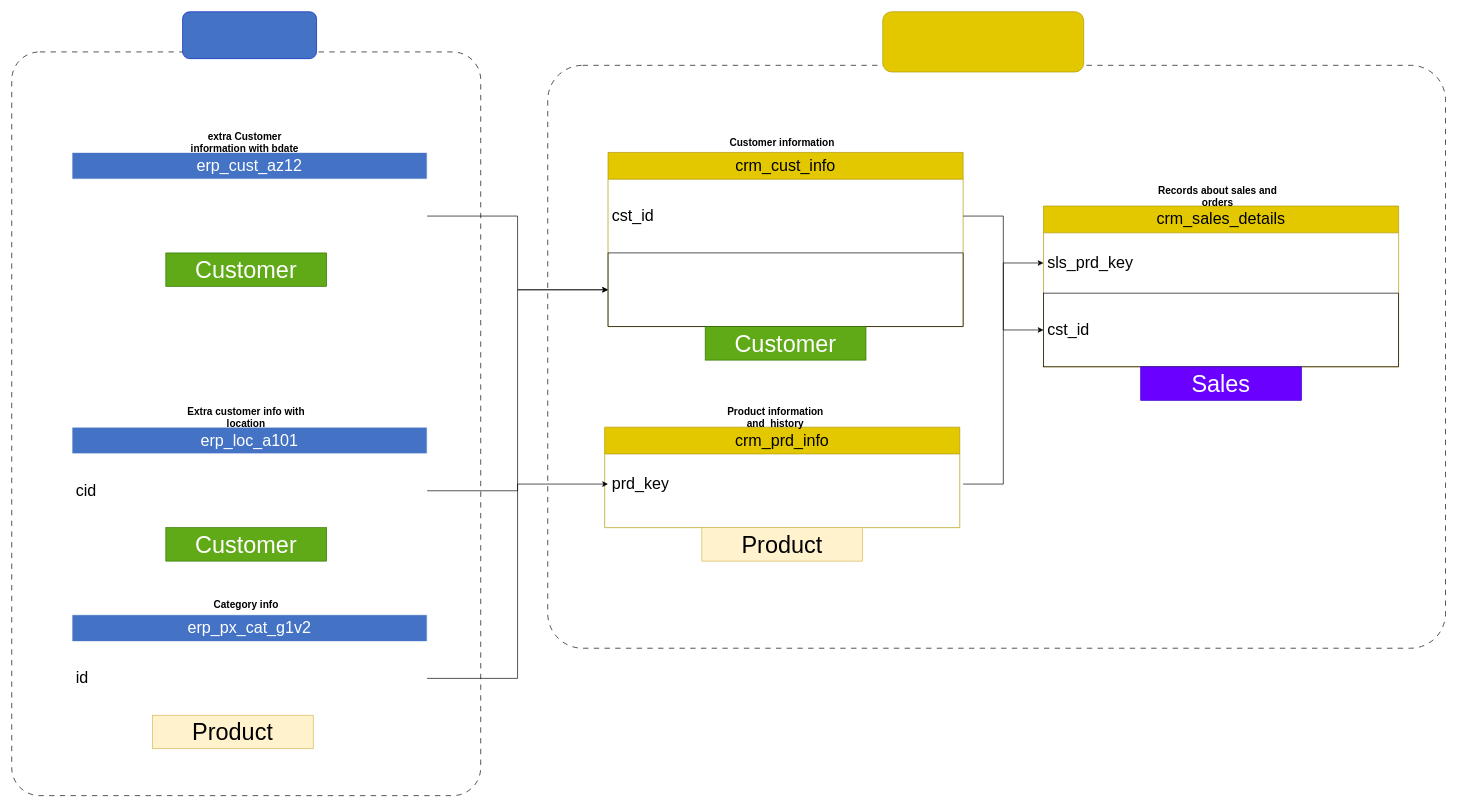
The diagram is 1457 pixels wide and 807 high, and some of its shapes have lost their labels. Here are the shapes that lost their labels. From the top down, the centre of each, then its label:
(249,35): ERP
(983,41): CRM
(785,289): cst_key
